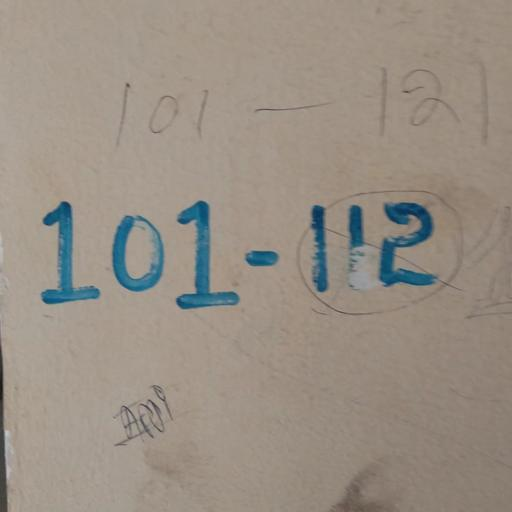stain: (28, 195, 512, 335), (94, 56, 487, 161), (312, 443, 470, 512), (95, 384, 214, 451)
